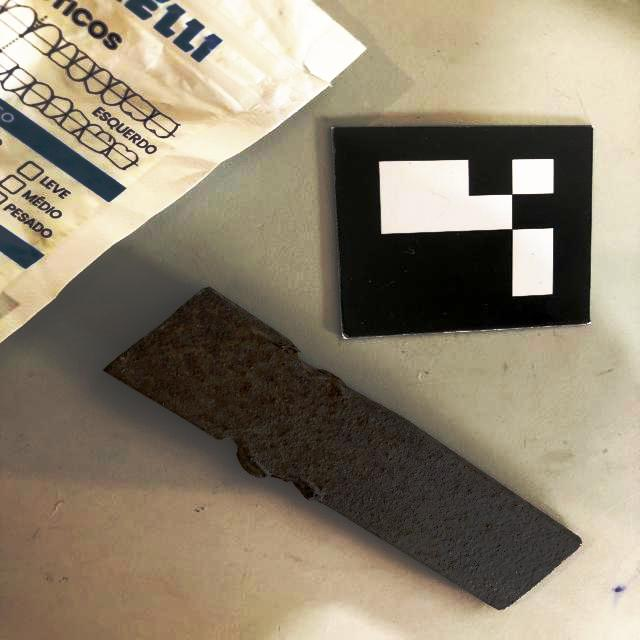Corrosion: (103, 287, 582, 610)
